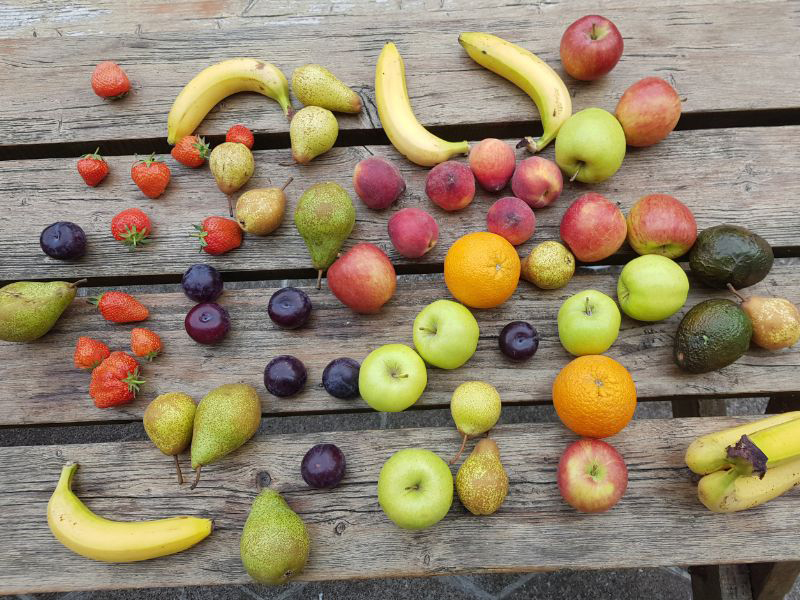banana: (46, 470, 217, 571)
strawberry: (91, 284, 153, 324), (107, 205, 155, 251), (70, 140, 114, 189), (126, 154, 172, 199), (192, 212, 242, 251), (87, 58, 134, 99), (128, 323, 167, 358), (70, 331, 101, 361)
